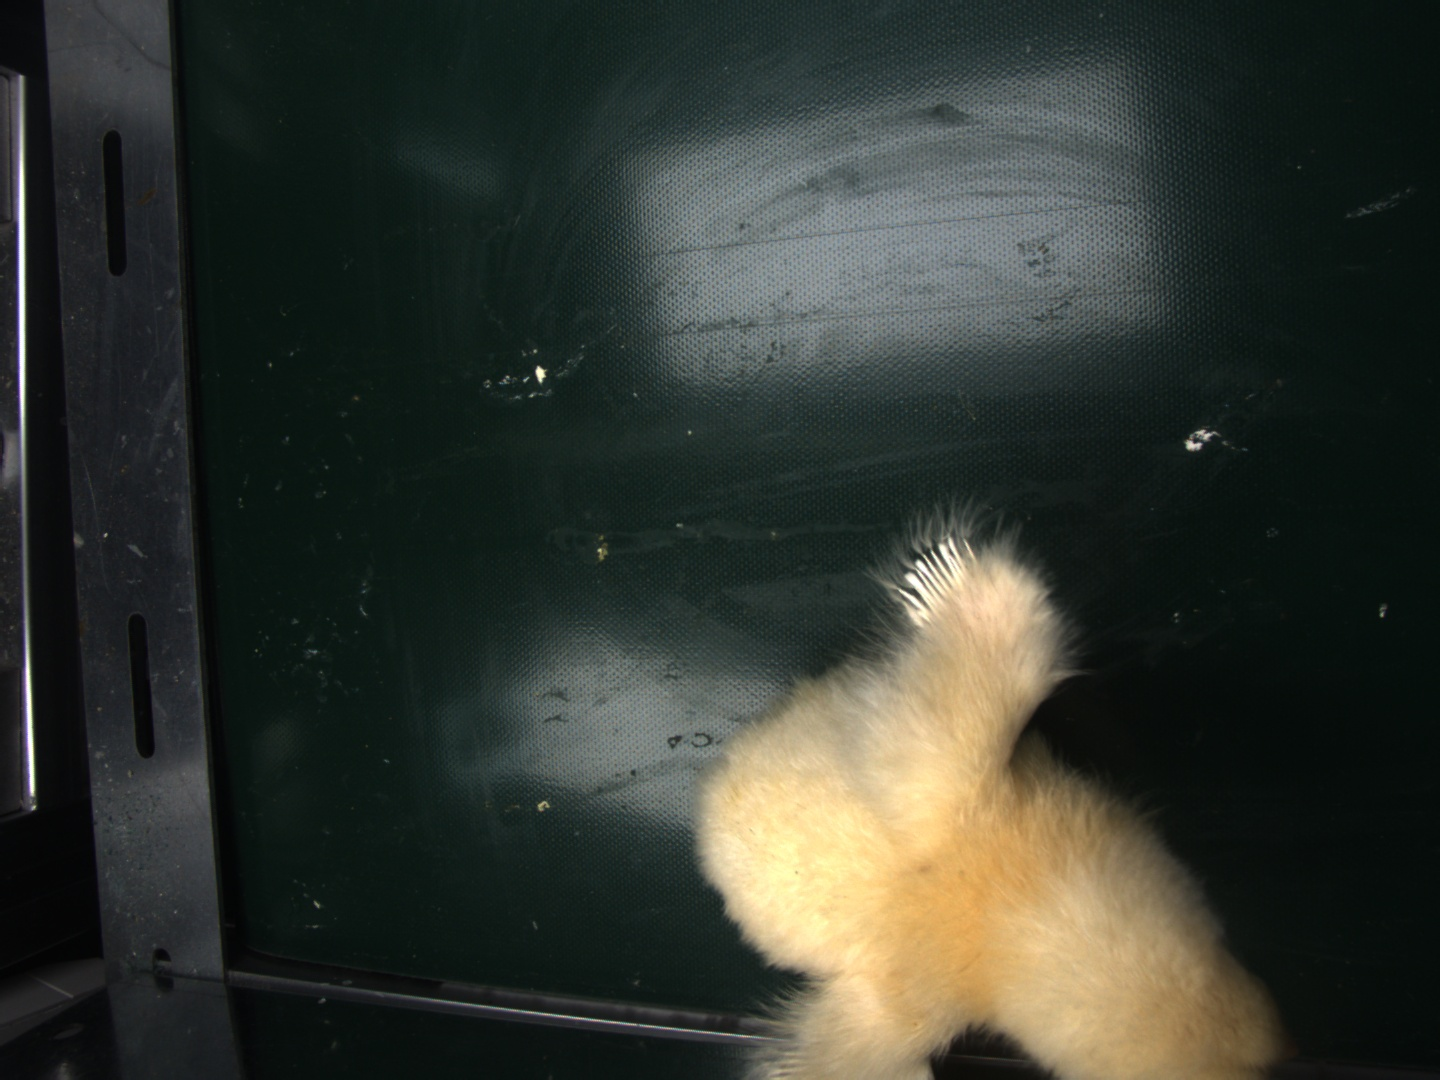male: (903, 545, 981, 621)
